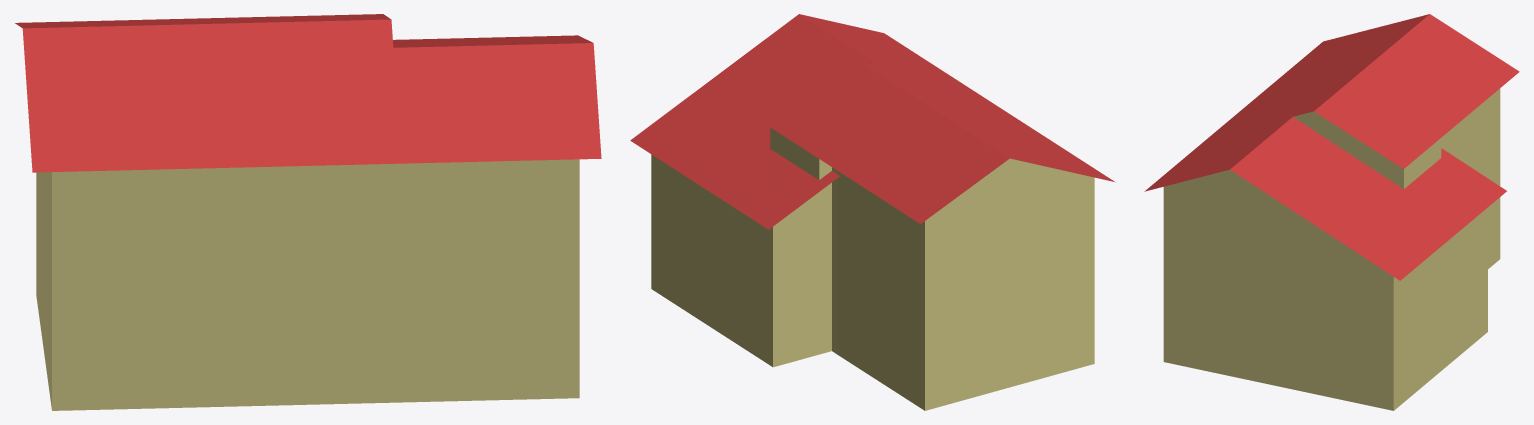
3 views of the same model, side by side, from view 1: azimuth 30°, elevation 25°; view 2: azimuth 150°, elevation 25°; view 3: azimuth 270°, elevation 25° (orthographic). The views are drawn at different scales.
Parts seen in each view (by area): view 1: group_13, group_11, group_12, group_3, group_7, group_5; view 2: group_5, group_9, group_7, group_13, group_3, group_11, group_12, group_4, group_8; view 3: group_9, group_7, group_3, group_13, group_11, group_5, group_12, group_4, group_8.
Boxes of the visible parts, bbox=[...] form: group_13: bbox=[43, 159, 579, 410]; group_11: bbox=[33, 19, 601, 171]; group_12: bbox=[22, 28, 600, 172]; group_3: bbox=[19, 14, 390, 27]; group_7: bbox=[393, 35, 592, 47]; group_5: bbox=[36, 172, 43, 345]; group_5: bbox=[770, 127, 1001, 410]; group_9: bbox=[651, 154, 819, 367]; group_7: bbox=[630, 14, 879, 229]; group_13: bbox=[1001, 158, 1094, 389]; group_3: bbox=[771, 62, 1000, 223]; group_11: bbox=[799, 14, 1093, 173]; group_12: bbox=[887, 35, 1115, 182]; group_4: bbox=[895, 153, 1009, 223]; group_8: bbox=[631, 15, 839, 228]; group_9: bbox=[1236, 174, 1487, 410]; group_7: bbox=[1230, 117, 1506, 280]; group_3: bbox=[1314, 17, 1518, 168]; group_13: bbox=[1163, 111, 1313, 377]; group_11: bbox=[1145, 19, 1422, 191]; group_5: bbox=[1314, 88, 1500, 268]; group_12: bbox=[1147, 14, 1429, 189]; group_4: bbox=[1423, 14, 1519, 87]; group_8: bbox=[1232, 148, 1505, 280].
Bounding box in the file's own units: 25.09 × 19.46 × 12.76.
